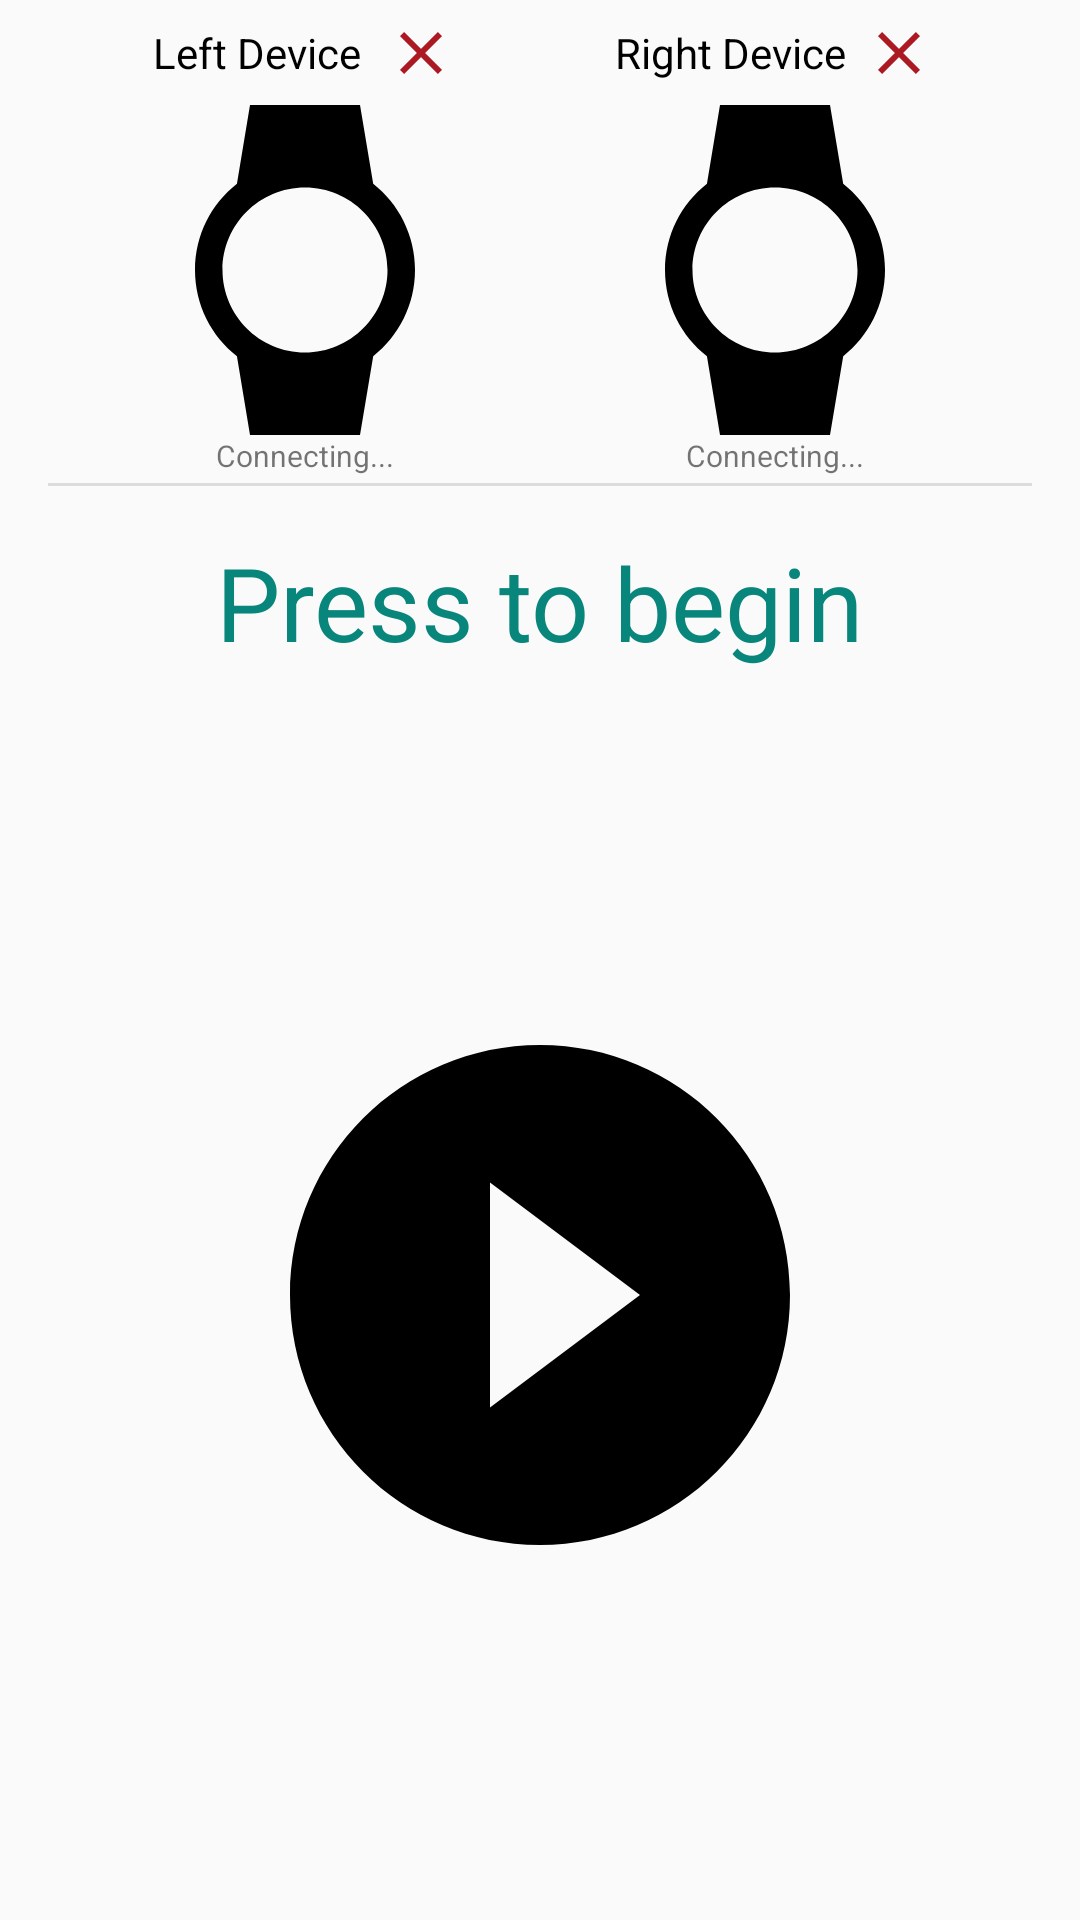

Named icons in this screenshot (1080*1920) and their centers, (x,y):
close: (421,53), (899,53)
watch: (305,270), (775,270)
